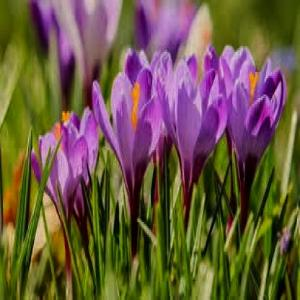Saffron: (92, 68, 166, 202), (157, 68, 228, 194), (216, 61, 286, 188), (51, 104, 106, 221), (30, 130, 87, 222)
